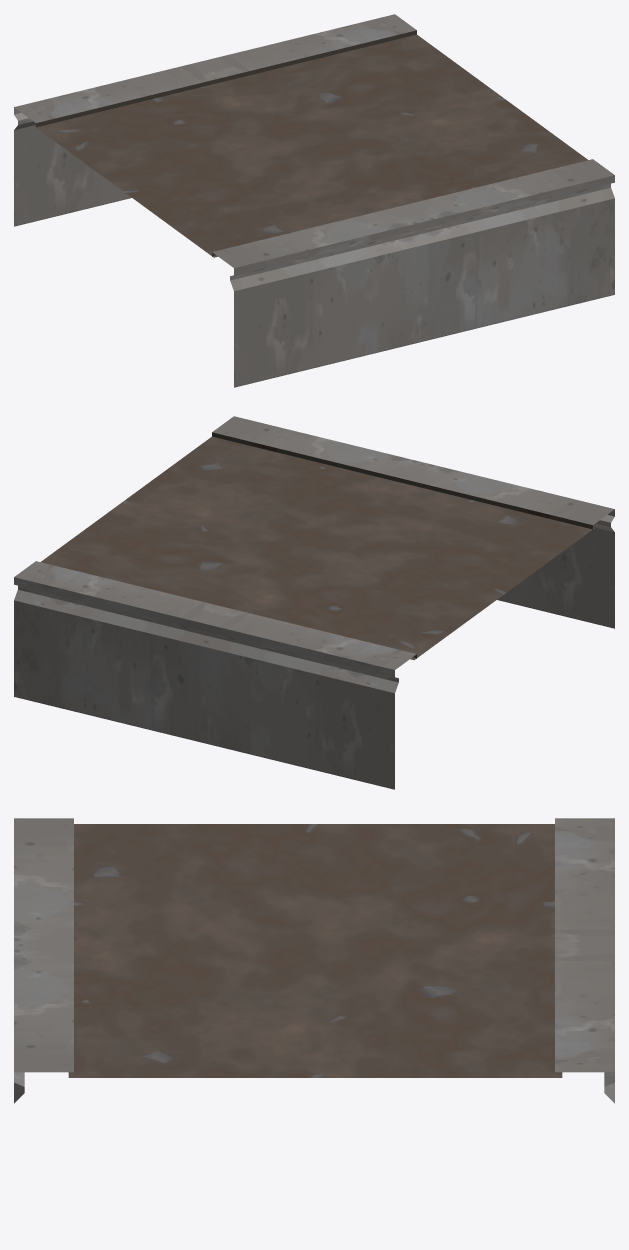
File: Prop_Planter_Center.gltf
The picture shows the model from 3 angles, top to bottom: view 1: azimuth 30°, elevation 25°; view 2: azimuth 150°, elevation 25°; view 3: azimuth 270°, elevation 25°; orthographic projection. The views are drawn at different scales.
Parts seen in each view (by area): view 1: Prop_Planter_Center; view 2: Prop_Planter_Center; view 3: Prop_Planter_Center.
Part boxes in pixels (x1,y1,x2,y2): Prop_Planter_Center: [14, 14, 614, 387]; Prop_Planter_Center: [14, 416, 614, 789]; Prop_Planter_Center: [14, 818, 614, 1103].
Bounding box in the file's own units: 2 × 0.6 × 2.
Materials: 2 (2 with a texture image).
